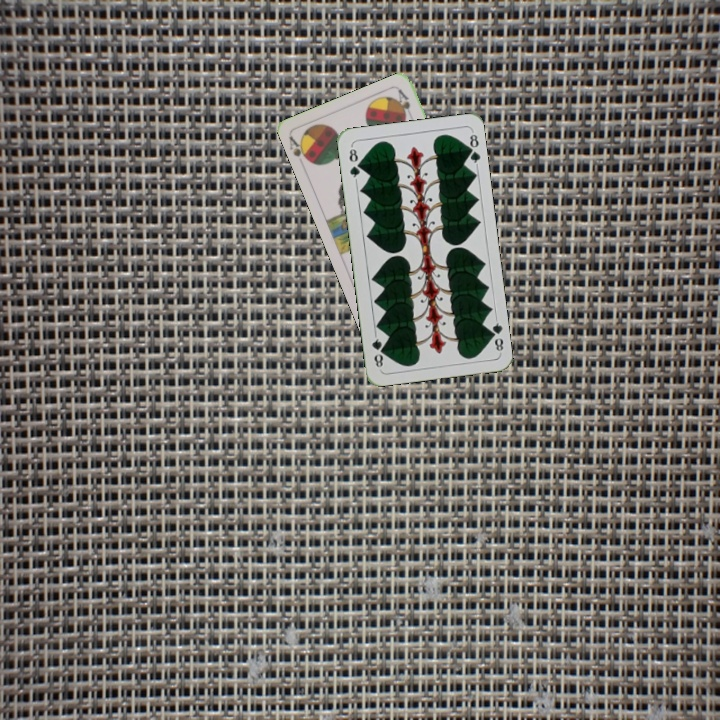G8: (485, 315, 506, 355), (345, 143, 363, 183)
SA: (285, 132, 315, 167)
